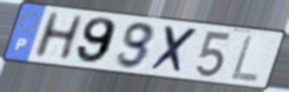5: (193, 29, 235, 79)
9: (75, 16, 121, 67), (114, 21, 158, 71)
H: (30, 11, 87, 61)
L: (229, 33, 262, 84)
X: (147, 24, 201, 76)
